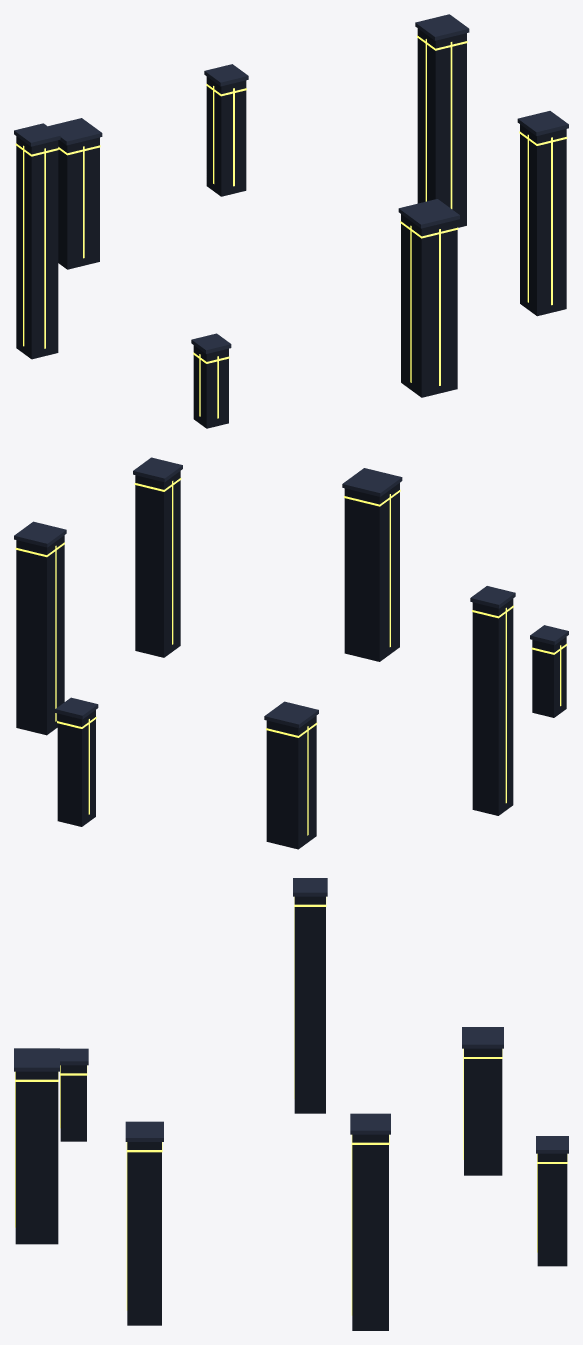
3 views of the same model, one above another, from view 1: azimuth 30°, elevation 25°; view 2: azimuth 150°, elevation 25°; view 3: azimuth 270°, elevation 25° (orthographic). The views are drawn at different scales.
Visible parts, largest first — view 1: nexo_spires_taller.lod1; view 2: nexo_spires_taller.lod1; view 3: nexo_spires_taller.lod1.
Boxes of the visible parts, x1,y1,x2,y2 form: nexo_spires_taller.lod1: [14, 14, 568, 428]; nexo_spires_taller.lod1: [14, 457, 568, 849]; nexo_spires_taller.lod1: [14, 878, 568, 1330].
Size of the model in its own units: 25.19 by 11.22 by 25.46.
